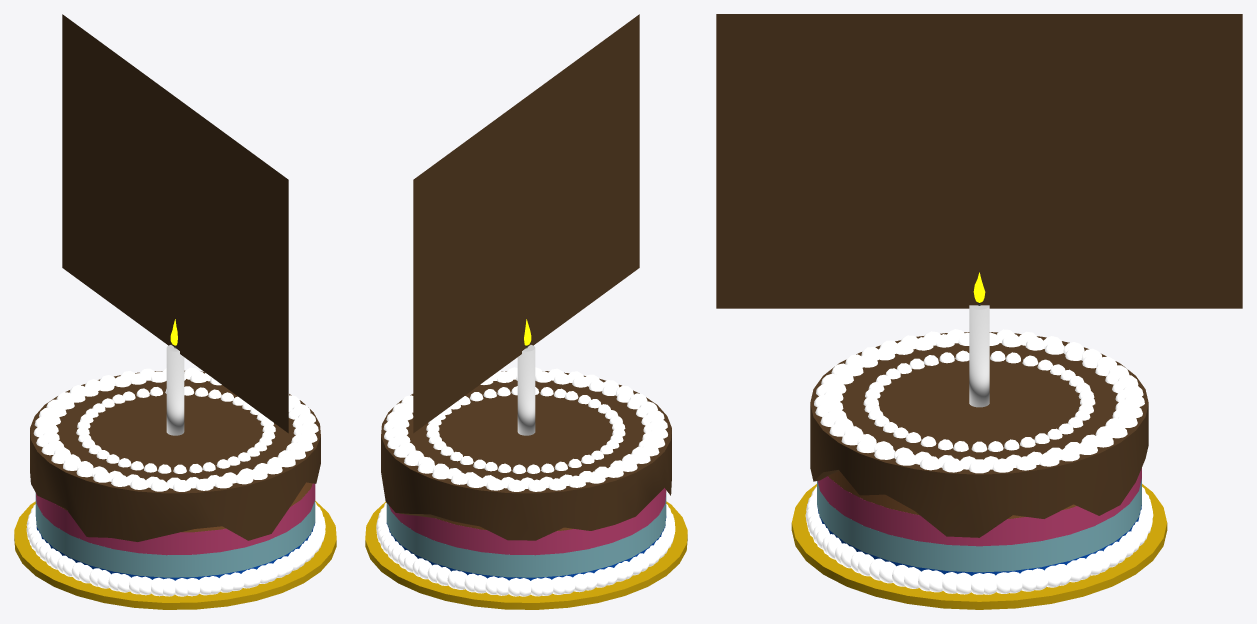
3 renders of one model, left to right at view 1: azimuth 30°, elevation 25°; view 2: azimuth 150°, elevation 25°; view 3: azimuth 270°, elevation 25°, orthographic. The views are drawn at different scales.
Visible parts, largest first — view 1: Plane, BR_D-material, White-material, B-material, Gold-material, R-material, W-material, Material_001-material; view 2: Plane, BR_D-material, White-material, B-material, Gold-material, R-material, W-material, Material_001-material; view 3: Plane, BR_D-material, White-material, B-material, Gold-material, R-material, W-material, Brown-material, Material_001-material.
Part boxes in pixels (bbox=[...]): Plane: bbox=[62, 14, 288, 433]; BR_D-material: bbox=[30, 370, 320, 541]; White-material: bbox=[26, 367, 325, 596]; B-material: bbox=[35, 493, 315, 577]; Gold-material: bbox=[14, 501, 336, 609]; R-material: bbox=[36, 483, 315, 555]; W-material: bbox=[166, 345, 184, 435]; Material_001-material: bbox=[35, 516, 314, 580]; Plane: bbox=[413, 14, 639, 433]; BR_D-material: bbox=[381, 371, 671, 540]; White-material: bbox=[376, 367, 675, 596]; B-material: bbox=[386, 493, 666, 577]; Gold-material: bbox=[365, 501, 687, 609]; R-material: bbox=[389, 488, 666, 555]; W-material: bbox=[517, 345, 535, 435]; Material_001-material: bbox=[386, 516, 666, 580]; Plane: bbox=[716, 14, 1242, 308]; BR_D-material: bbox=[810, 332, 1148, 537]; White-material: bbox=[805, 329, 1153, 594]; B-material: bbox=[817, 479, 1141, 572]; Gold-material: bbox=[791, 484, 1167, 609]; R-material: bbox=[817, 468, 1141, 546]; W-material: bbox=[969, 305, 989, 407]; Brown-material: bbox=[828, 471, 1076, 518]; Material_001-material: bbox=[817, 505, 1141, 575].
Size of the model in its own units: 2.31 by 3.51 by 3.24.
